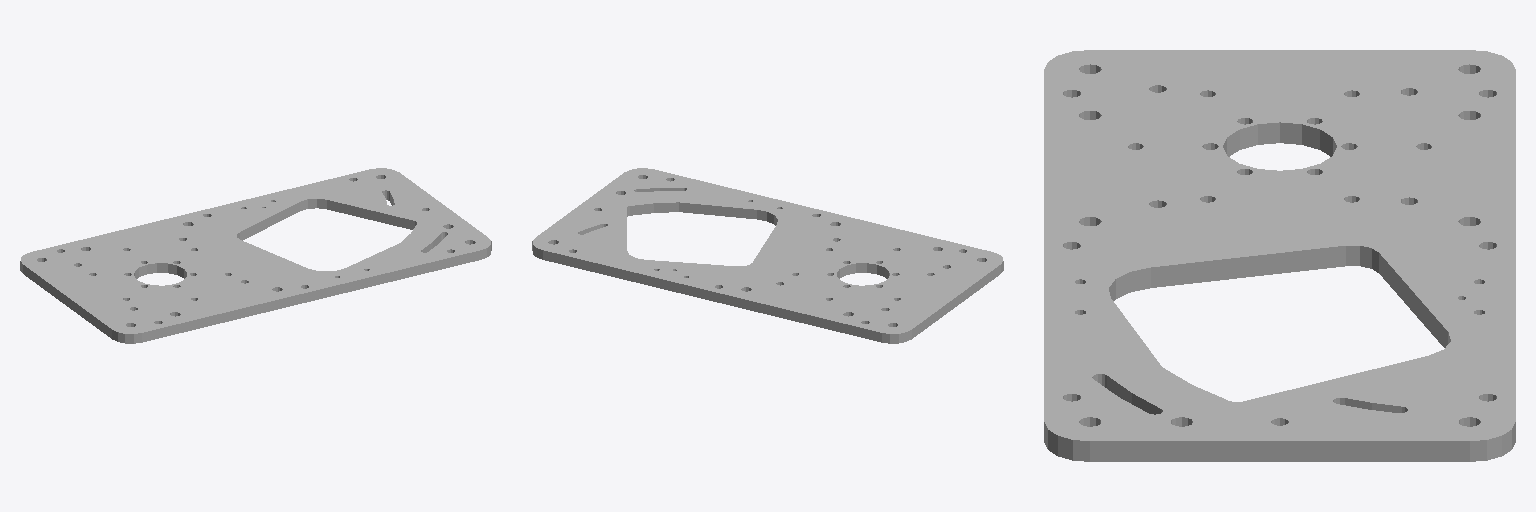
robot.urdf — blue_gazebo:
<robot
  name="blue_gazebo">
  <link name="world"/>
  <link name="base_link">
    <inertial>
      <origin
        xyz="-0.0757957750238399 0.140984711919552 -0.0275242044620397"
        rpy="0 0 0" />
      <mass
        value="5.35087699357395" />
      <inertia
        ixx="0.0187422392203513"
        ixy="0.000249830365012887"
        ixz="-9.95942614361503E-05"
        iyy="0.0149272112233475"
        iyz="-0.0026993960481081"
        izz="0.0181034939902423" />
    </inertial>
    <visual>
      <origin
        xyz="0 0 0"
        rpy="0 0 0" />
      <geometry>
        <mesh
          filename="package://blue_gazebo/meshes/base_link.STL" />
      </geometry>
      <material
        name="">
        <color
          rgba="0.752941176470588 0.752941176470588 0.752941176470588 1" />
      </material>
    </visual>
    <collision>
      <origin
        xyz="0 0 0"
        rpy="0 0 0" />
      <geometry>
        <mesh
          filename="package://blue_gazebo/meshes/base_link.STL" />
      </geometry>
    </collision>
  </link>
  <link
    name="lift_link">
    <inertial>
      <origin
        xyz="0.0137518298200178 9.31785077161046E-05 -4.72900080879524E-05"
        rpy="0 0 0" />
      <mass
        value="0.0945714084478179" />
      <inertia
        ixx="5.09580014268689E-05"
        ixy="-1.9745804718431E-08"
        ixz="1.63492553760009E-07"
        iyy="9.24996047366959E-05"
        iyz="-8.22989412877518E-10"
        izz="5.29296115073191E-05" />
    </inertial>
    <visual>
      <origin
        xyz="0 0 0"
        rpy="0 0 0" />
      <geometry>
        <mesh
          filename="package://blue_gazebo/meshes/lift_link.STL" />
      </geometry>
      <material
        name="">
        <color
          rgba="1 1 1 1" />
      </material>
    </visual>
    <collision>
      <origin
        xyz="0 0 0"
        rpy="0 0 0" />
      <geometry>
        <mesh
          filename="package://blue_gazebo/meshes/lift_link.STL" />
      </geometry>
    </collision>
  </link>
  <joint
    name="lift_joint"
    type="continuous">
    <origin
      xyz="-0.0762 0.22288 0.078275"
      rpy="1.5708 -0.7854 1.5708" />
    <parent
      link="base_link" />
    <child
      link="lift_link" />
    <axis
      xyz="0 0 1" />
  </joint>
  <link
    name="sroll_link">
    <inertial>
      <origin
        xyz="-2.69564467042516E-06 -0.0103941247742759 0.067080285801929"
        rpy="0 0 0" />
      <mass
        value="4.87714486845394" />
      <inertia
        ixx="0.0102609522942837"
        ixy="6.12489730276725E-08"
        ixz="-9.76949290734999E-07"
        iyy="0.0104359418011871"
        iyz="0.000111882173967031"
        izz="0.00815305827142092" />
    </inertial>
    <visual>
      <origin
        xyz="0 0 0"
        rpy="0 0 0" />
      <geometry>
        <mesh
          filename="package://blue_gazebo/meshes/sroll_link.STL" />
      </geometry>
      <material
        name="">
        <color
          rgba="1 1 1 1" />
      </material>
    </visual>
    <collision>
      <origin
        xyz="0 0 0"
        rpy="0 0 0" />
      <geometry>
        <mesh
          filename="package://blue_gazebo/meshes/sroll_link.STL" />
      </geometry>
    </collision>
  </link>
  <joint
    name="sroll_joint"
    type="continuous">
    <origin
      xyz="0.06495 0 0"
      rpy="0 1.5708 0" />
    <parent
      link="lift_link" />
    <child
      link="sroll_link" />
    <axis
      xyz="0 0 1" />
  </joint>
  <link
    name="elbow_link">
    <inertial>
      <origin
        xyz="0.0422346678984667 4.42730856626689E-05 4.14314615251321E-05"
        rpy="0 0 0" />
      <mass
        value="0.203035966469269" />
      <inertia
        ixx="0.000167473173510081"
        ixy="2.30817545507112E-07"
        ixz="-1.83612742409275E-07"
        iyy="0.000166157351385167"
        iyz="-2.2611457356263E-08"
        izz="0.000167396300440238" />
    </inertial>
    <visual>
      <origin
        xyz="0 0 0"
        rpy="0 0 0" />
      <geometry>
        <mesh
          filename="package://blue_gazebo/meshes/elbow_link.STL" />
      </geometry>
      <material
        name="">
        <color
          rgba="1 1 1 1" />
      </material>
    </visual>
    <collision>
      <origin
        xyz="0 0 0"
        rpy="0 0 0" />
      <geometry>
        <mesh
          filename="package://blue_gazebo/meshes/elbow_link.STL" />
      </geometry>
    </collision>
  </link>
  <joint
    name="elbow_joint"
    type="continuous">
    <origin
      xyz="0 0.01 0.19025"
      rpy="2.9745 -1.5708 -2.9745" />
    <parent
      link="sroll_link" />
    <child
      link="elbow_link" />
    <axis
      xyz="0 0 1" />
  </joint>
  <link
    name="eroll_link">
    <inertial>
      <origin
        xyz="-2.69578007960902E-06 -0.0103941248103617 0.0670802858040951"
        rpy="0 0 0" />
      <mass
        value="4.87714486426897" />
      <inertia
        ixx="0.0102609512250403"
        ixy="6.12485520913233E-08"
        ixz="-9.76947490299796E-07"
        iyy="0.0104359611445639"
        iyz="0.000111882172510607"
        izz="0.0081530765474748" />
    </inertial>
    <visual>
      <origin
        xyz="0 0 0"
        rpy="0 0 0" />
      <geometry>
        <mesh
          filename="package://blue_gazebo/meshes/eroll_link.STL" />
      </geometry>
      <material
        name="">
        <color
          rgba="1 1 1 1" />
      </material>
    </visual>
    <collision>
      <origin
        xyz="0 0 0"
        rpy="0 0 0" />
      <geometry>
        <mesh
          filename="package://blue_gazebo/meshes/eroll_link.STL" />
      </geometry>
    </collision>
  </link>
  <joint
    name="eroll_joint"
    type="continuous">
    <origin
      xyz="0.06495 0 0"
      rpy="0 1.5708 0" />
    <parent
      link="elbow_link" />
    <child
      link="eroll_link" />
    <axis
      xyz="0 0 1" />
  </joint>
  <link
    name="wrist_link">
    <inertial>
      <origin
        xyz="0.0137518298200184 9.31785077139813E-05 -4.72900080885075E-05"
        rpy="0 0 0" />
      <mass
        value="0.0945714084478188" />
      <inertia
        ixx="5.0958001426869E-05"
        ixy="-1.97458047184852E-08"
        ixz="1.6349255376012E-07"
        iyy="9.24996047366979E-05"
        iyz="-8.22989412959943E-10"
        izz="5.29296115073212E-05" />
    </inertial>
    <visual>
      <origin
        xyz="0 0 0"
        rpy="0 0 0" />
      <geometry>
        <mesh
          filename="package://blue_gazebo/meshes/wrist_link.STL" />
      </geometry>
      <material
        name="">
        <color
          rgba="0.898039215686275 0.917647058823529 0.929411764705882 1" />
      </material>
    </visual>
    <collision>
      <origin
        xyz="0 0 0"
        rpy="0 0 0" />
      <geometry>
        <mesh
          filename="package://blue_gazebo/meshes/wrist_link.STL" />
      </geometry>
    </collision>
  </link>
  <joint
    name="wrist_joint"
    type="continuous">
    <origin
      xyz="0 0.01 0.19025"
      rpy="-1.8925 -1.5708 1.9513" />
    <parent
      link="eroll_link" />
    <child
      link="wrist_link" />
    <axis
      xyz="0 0 1" />
  </joint>
  <link
    name="wroll_link">
    <inertial>
      <origin
        xyz="-0.0562350071035924 -0.00280283331198616 0.0375786926130955"
        rpy="0 0 0" />
      <mass
        value="0.95686918925379" />
      <inertia
        ixx="0.00121575344897543"
        ixy="0.000346811275988596"
        ixz="0.000669697569817252"
        iyy="0.00596774482621568"
        iyz="3.34290139549377E-05"
        izz="0.00564190463158831" />
    </inertial>
    <visual>
      <origin
        xyz="0 0 0"
        rpy="0 0 0" />
      <geometry>
        <mesh
          filename="package://blue_gazebo/meshes/wroll_link.STL" />
      </geometry>
      <material
        name="">
        <color
          rgba="1 1 1 1" />
      </material>
    </visual>
    <collision>
      <origin
        xyz="0 0 0"
        rpy="0 0 0" />
      <geometry>
        <mesh
          filename="package://blue_gazebo/meshes/wroll_link.STL" />
      </geometry>
    </collision>
  </link>
  <joint
    name="wroll_joint"
    type="continuous">
    <origin
      xyz="0.06495 0 0"
      rpy="0 1.5708 0" />
    <parent
      link="wrist_link" />
    <child
      link="wroll_link" />
    <axis
      xyz="0 0 1" />
  </joint>

  <joint name ="world_joint" type= "fixed">
    <origin xyz="0 0 2" rpy="0 0 0" />
    <parent link="world"/>
    <child link="base_link"/>
  </joint>
 <transmission name="tran1">
    <type>transmission_interface/SimpleTransmission</type>
    <joint name="lift_joint"><hardwareInterface>EffortJointInterface</hardwareInterface>
    </joint>
    <actuator name="motor1">
      <hardwareInterface>EffortJointInterface</hardwareInterface>
      <mechanicalReduction>1</mechanicalReduction>
    </actuator>
  </transmission>

  <transmission name="tran2">
    <type>transmission_interface/SimpleTransmission</type>
    <joint name="sroll_joint"><hardwareInterface>EffortJointInterface</hardwareInterface>
    </joint>
    <actuator name="motor2">
      <hardwareInterface>EffortJointInterface</hardwareInterface>
      <mechanicalReduction>1</mechanicalReduction>
    </actuator>
  </transmission>

  <transmission name="tran3">
    <type>transmission_interface/SimpleTransmission</type>
    <joint name="elbow_joint"><hardwareInterface>EffortJointInterface</hardwareInterface>
    </joint>
    <actuator name="motor3">
      <hardwareInterface>EffortJointInterface</hardwareInterface>
      <mechanicalReduction>1</mechanicalReduction>
    </actuator>
  </transmission>
  
  <transmission name="tran4">
    <type>transmission_interface/SimpleTransmission</type>
    <joint name="eroll_joint"><hardwareInterface>EffortJointInterface</hardwareInterface>
    </joint>
    <actuator name="motor4">
      <hardwareInterface>EffortJointInterface</hardwareInterface>
      <mechanicalReduction>1</mechanicalReduction>
    </actuator>
  </transmission>

  <transmission name="tran5">
    <type>transmission_interface/SimpleTransmission</type>
    <joint name="wrist_joint"><hardwareInterface>EffortJointInterface</hardwareInterface>
    </joint>
    <actuator name="motor5">
      <hardwareInterface>EffortJointInterface</hardwareInterface>
      <mechanicalReduction>1</mechanicalReduction>
    </actuator>
  </transmission>

  <transmission name="tran6">
    <type>transmission_interface/SimpleTransmission</type>
    <joint name="wroll_joint"><hardwareInterface>EffortJointInterface</hardwareInterface>
    </joint>
    <actuator name="motor6">
      <hardwareInterface>EffortJointInterface</hardwareInterface>
      <mechanicalReduction>1</mechanicalReduction>
    </actuator>
  </transmission>

  <gazebo>
    <plugin name="gazebo_ros_control" filename="libgazebo_ros_control.so">
      <robotNamespace>/DOF</robotNamespace>
    </plugin>
  </gazebo>
</robot>

--- Facts derived from the render (not from the file) ---
Views: 3 orthographic renders of the robot side by side, from view 1: azimuth 30°, elevation 25°; view 2: azimuth 150°, elevation 25°; view 3: azimuth 270°, elevation 25°.
Model blue_gazebo with 8 links and 7 joints (6 continuous, 1 fixed), rooted at world, posed every joint at zero.
Links seen in each view (by area): view 1: base_link; view 2: base_link; view 3: base_link.
Boxes of the visible links, x1=… form: base_link: x1=20, y1=168, x2=491, y2=343; base_link: x1=532, y1=168, x2=1003, y2=343; base_link: x1=1044, y1=50, x2=1515, y2=461.
Size in the robot's own frame: 0.2572 by 0.1308 by 0.0064 metres.
Meshes: 7 distinct files referenced, 1 mesh visuals loaded (1 binary STL); not drawn: 6 (reference not matched to a file when rendering).